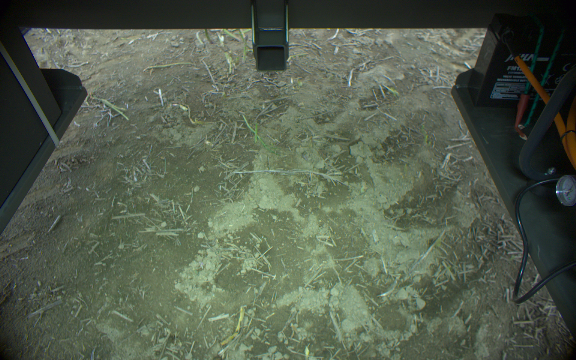aspa: (240, 35, 250, 64), (220, 28, 240, 41), (203, 29, 214, 44)
